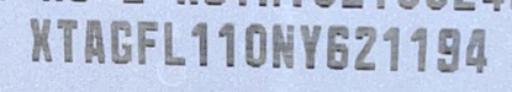letter: (26, 16, 54, 63), (352, 23, 380, 70), (464, 26, 492, 73), (54, 16, 80, 64), (134, 18, 160, 66), (108, 18, 134, 66), (162, 19, 188, 67), (270, 21, 296, 69), (324, 23, 350, 71), (82, 17, 106, 66), (244, 21, 268, 69), (298, 22, 322, 70), (436, 26, 460, 73), (408, 25, 430, 73), (188, 19, 210, 66), (382, 23, 400, 72), (218, 20, 236, 68)
